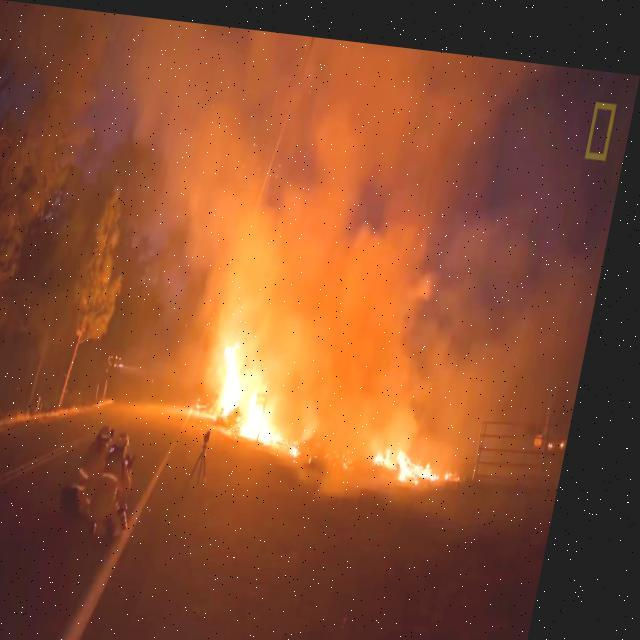Fire: (220, 335, 334, 454), (386, 432, 456, 480), (460, 456, 480, 469)
